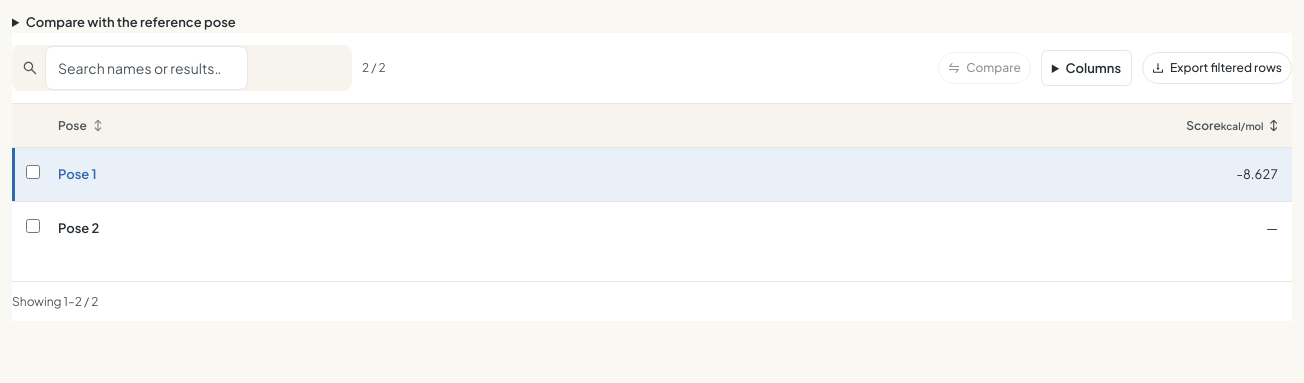
Scenario: leaves unavailable comparisons and legacy results without invented zero distances
Click the heading "Compare with the reference pose".
click(131, 22)  # box [26,14,236,30]
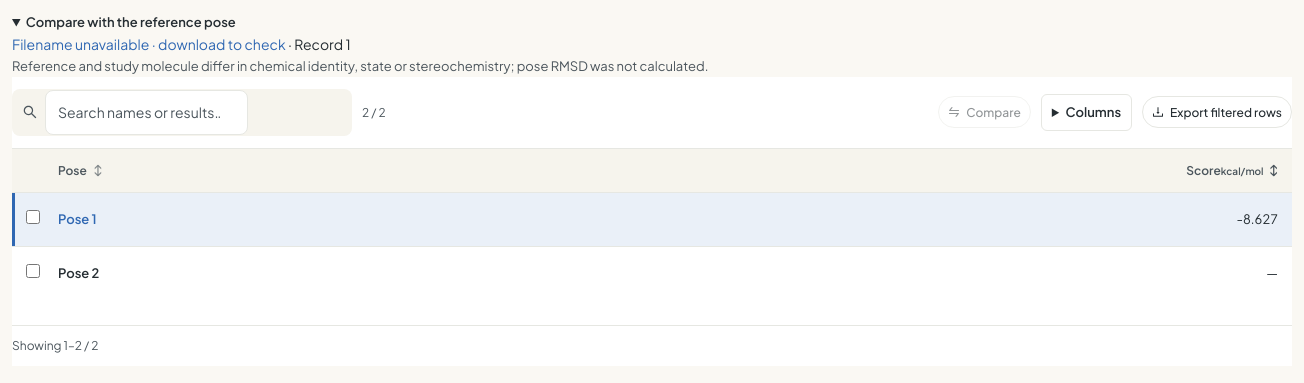
expect the text "pose RMSD was not calculated" is shown: met, box [12,58,708,74]
